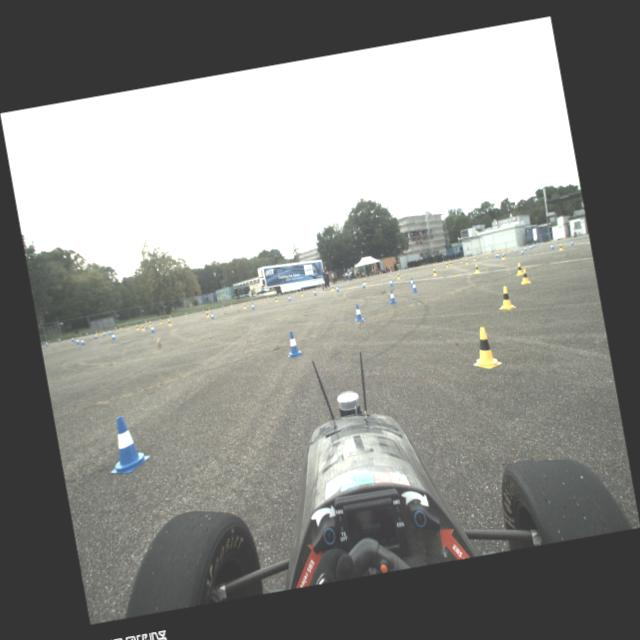blue_cone: (101, 412, 152, 475), (284, 330, 302, 358), (352, 303, 365, 322), (386, 288, 396, 304), (410, 280, 418, 292), (110, 330, 116, 340), (150, 323, 156, 332), (409, 276, 413, 288), (360, 280, 366, 288), (334, 284, 340, 292), (79, 337, 85, 345), (388, 277, 393, 286), (250, 302, 255, 310), (549, 242, 554, 250), (44, 339, 49, 346), (210, 311, 214, 319), (94, 332, 98, 340), (75, 338, 80, 344), (287, 294, 291, 301), (312, 289, 316, 295), (520, 248, 524, 254), (570, 238, 574, 244), (70, 336, 74, 342), (102, 330, 106, 336), (494, 252, 498, 258), (56, 336, 60, 342), (108, 329, 111, 335), (497, 252, 500, 257), (529, 244, 532, 249), (114, 326, 117, 330), (504, 250, 506, 256), (541, 241, 544, 245), (338, 280, 341, 283), (398, 268, 401, 271), (514, 248, 516, 252), (524, 246, 526, 250), (202, 308, 204, 312), (222, 304, 224, 308), (250, 298, 252, 302), (278, 292, 280, 296), (320, 284, 322, 288), (366, 274, 368, 278), (532, 244, 534, 248), (533, 242, 535, 246), (86, 332, 88, 335), (186, 312, 188, 315), (302, 288, 304, 291), (352, 278, 354, 281), (387, 270, 389, 273), (412, 265, 414, 268), (442, 259, 444, 262), (517, 245, 519, 248), (537, 242, 539, 245), (526, 244, 528, 246), (536, 242, 538, 244), (428, 262, 429, 265)
large_orange_cone: (378, 270, 381, 274), (389, 268, 392, 272)
yellow_cone: (467, 324, 502, 370), (495, 284, 516, 311), (518, 268, 530, 284), (514, 262, 522, 276), (474, 263, 479, 273), (166, 318, 172, 326), (140, 323, 146, 331), (558, 242, 564, 250), (432, 268, 437, 276), (135, 323, 140, 331), (500, 253, 505, 260), (396, 272, 400, 280), (205, 310, 209, 318), (242, 302, 246, 309), (363, 278, 367, 284), (330, 284, 334, 290), (299, 290, 303, 296), (274, 296, 278, 302), (464, 258, 468, 264), (448, 260, 452, 266), (484, 252, 488, 258), (159, 318, 162, 324), (472, 256, 476, 260), (126, 325, 129, 330), (148, 321, 151, 326), (445, 262, 448, 266), (266, 294, 269, 298), (95, 330, 98, 334), (118, 326, 121, 330), (460, 258, 462, 263), (100, 330, 102, 335), (409, 266, 412, 269), (488, 250, 491, 253), (170, 316, 172, 320), (184, 312, 186, 316), (208, 308, 210, 312), (230, 302, 232, 306), (296, 288, 298, 292), (356, 276, 358, 280), (508, 247, 510, 251), (369, 274, 371, 277), (381, 272, 383, 275), (421, 264, 423, 267), (448, 258, 450, 261), (476, 252, 478, 255), (315, 286, 317, 288), (436, 261, 436, 264)
